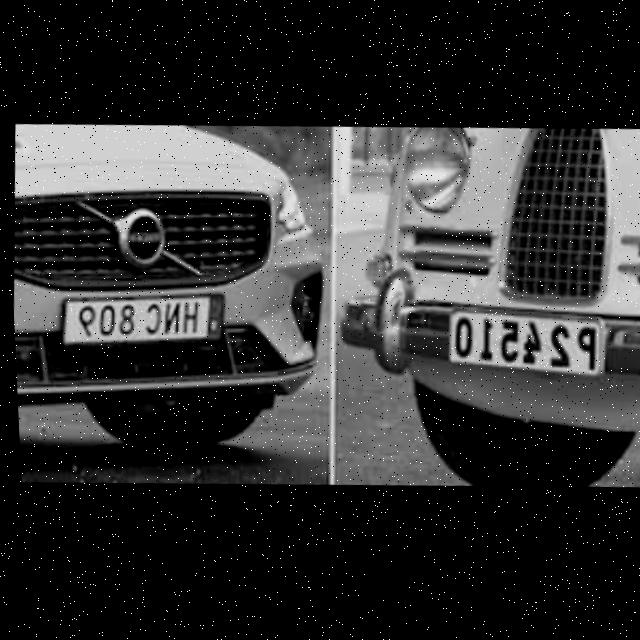license-plates: (61, 297, 220, 343)
